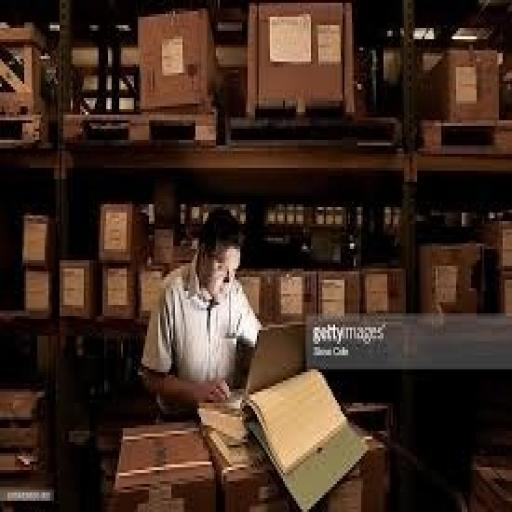using_laptop: (201, 324, 342, 444)
